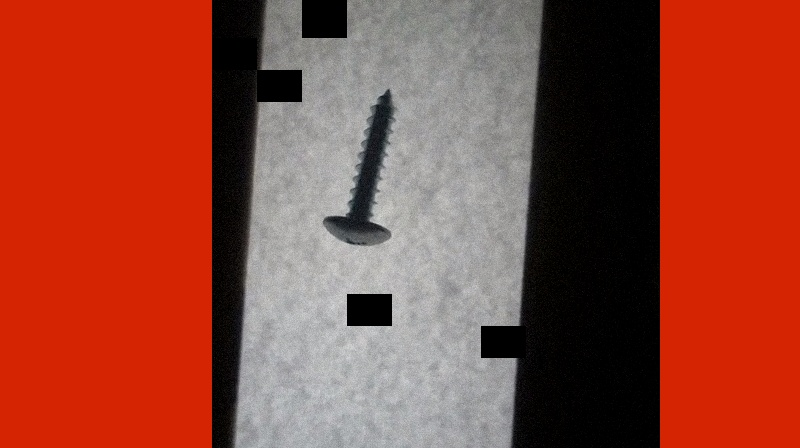S003: (319, 85, 401, 249)
